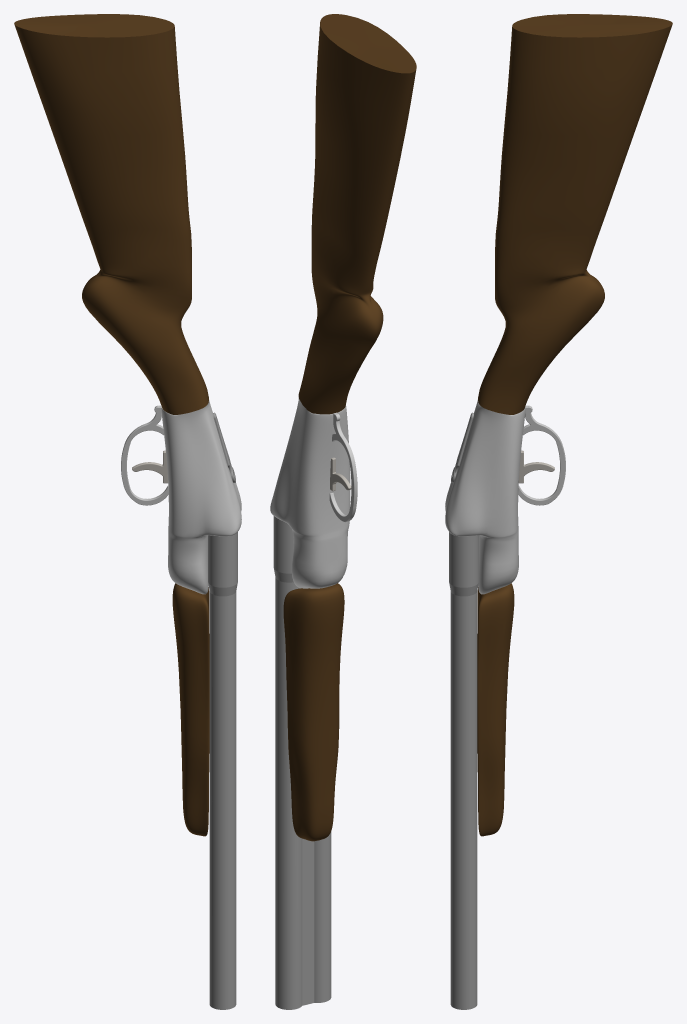
Rendered from Shotgun.fbx.
3 views of the same model, side by side, from view 1: azimuth 90°, elevation 25°; view 2: azimuth 210°, elevation 25°; view 3: azimuth 270°, elevation 25° (orthographic). The views are drawn at different scales.
Parts seen in each view (by area): view 1: Stock, Pipe, House, Handrail, Triggerguard; view 2: Stock, Pipe, Handrail, House, Triggerguard; view 3: Stock, Pipe, House, Handrail, Triggerguard.
Boxes of the visible parts, x1,y1,x2,y2 form: Stock: (14, 14, 208, 414); Pipe: (208, 532, 237, 1009); House: (161, 400, 241, 594); Handrail: (172, 583, 209, 836); Triggerguard: (121, 405, 168, 505); Stock: (298, 14, 416, 414); Pipe: (273, 516, 331, 1009); Handrail: (283, 583, 344, 841); House: (270, 397, 350, 588); Triggerguard: (329, 412, 357, 522); Stock: (478, 14, 672, 414); Pipe: (449, 532, 478, 1009); House: (445, 400, 525, 594); Handrail: (477, 583, 514, 836); Triggerguard: (518, 405, 565, 505).
Size of the model in its own units: 31.9 by 518 by 110.
